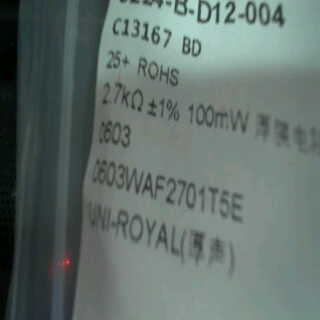2.7kR: (100, 77, 145, 116)
